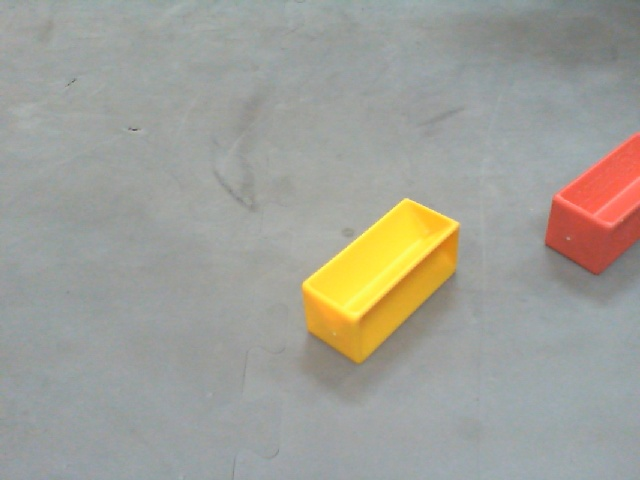RedSample: (544, 129, 640, 276)
YellowSample: (300, 195, 462, 365)
